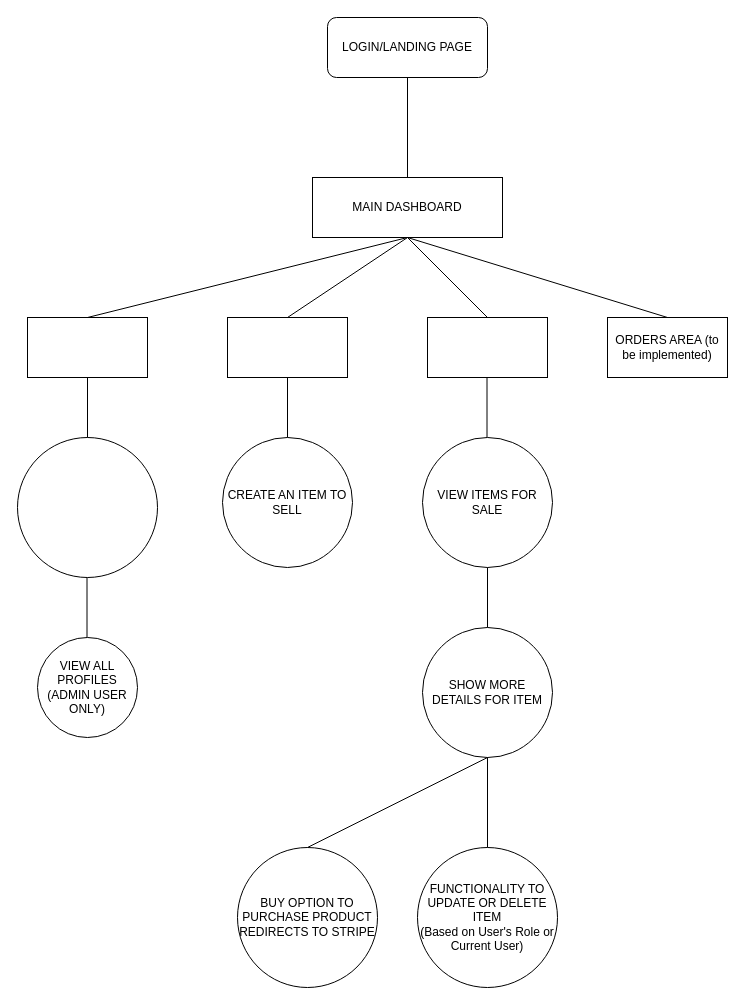
Image size: 745x1005. Some labels were removed from this diagram. Each missing label, with the box of its shape:
BUYERS AREA: (426, 316, 548, 378)
CREATE, VIEW AND UPDATE PROFILES: (16, 436, 158, 578)
SELLERS AREA: (226, 316, 348, 378)
USER PROFILES: (26, 316, 148, 378)
